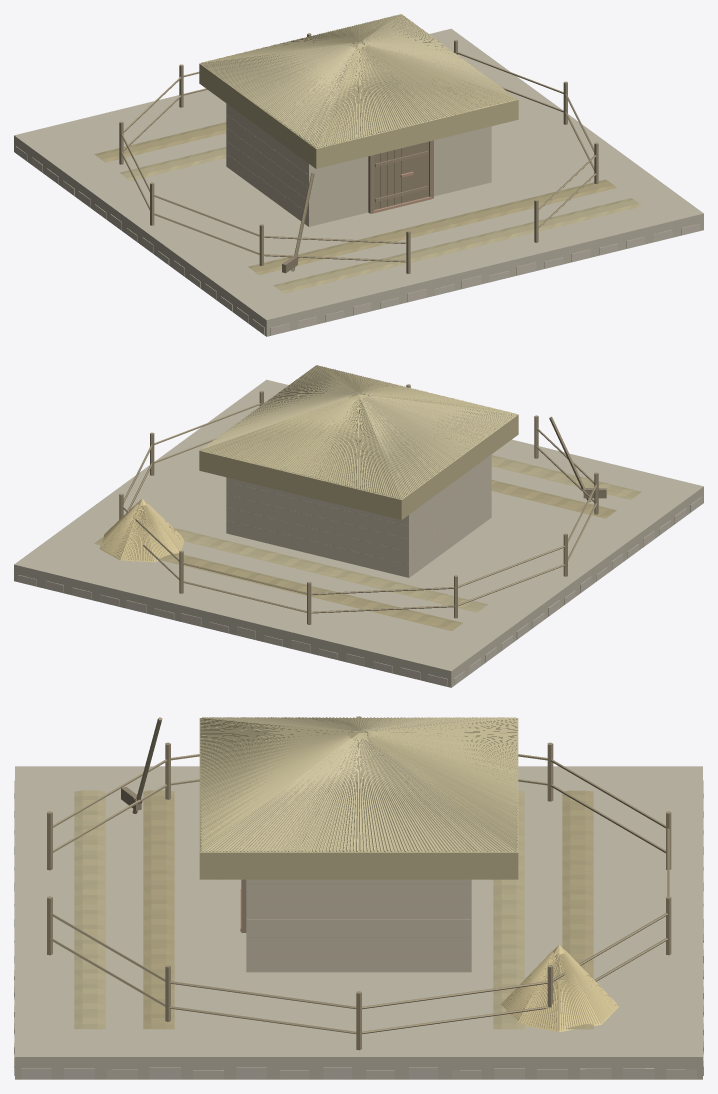
Rendered from tianshe.glb.
3 renders of one model, top to bottom at view 1: azimuth 30°, elevation 25°; view 2: azimuth 150°, elevation 25°; view 3: azimuth 270°, elevation 25°, orthographic. The views are drawn at different scales.
Parts seen in each view (by area): view 1: tianshe; view 2: tianshe; view 3: tianshe.
Boxes of the visible parts, x1,y1,x2,y2 form: tianshe: [14, 14, 703, 336]; tianshe: [14, 365, 703, 687]; tianshe: [14, 716, 703, 1079].
Size of the model in its own units: 14 by 4.63 by 14.
